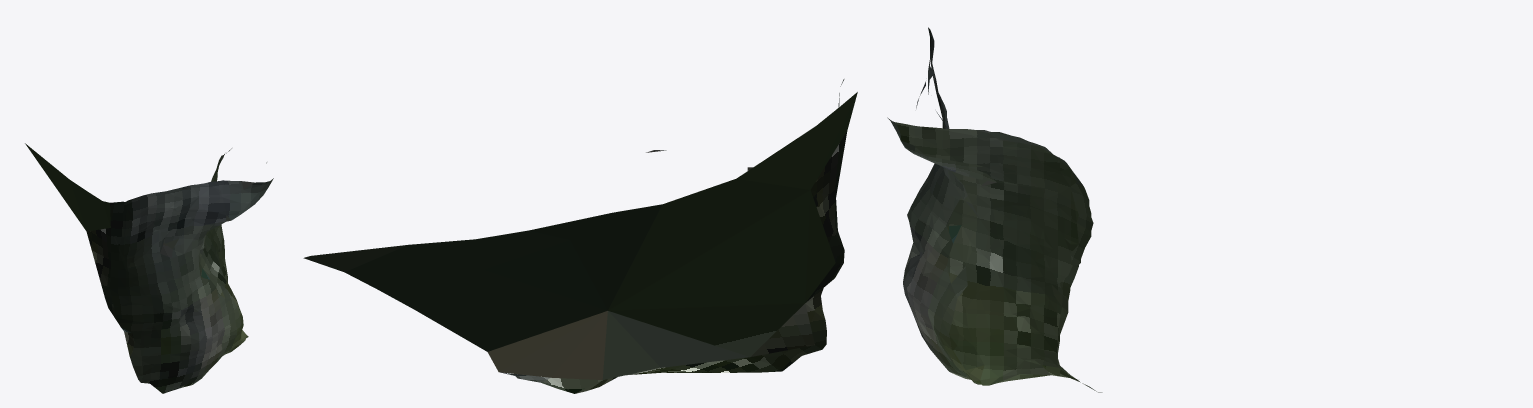
The picture shows the model from 3 angles, left to right: view 1: azimuth 30°, elevation 25°; view 2: azimuth 150°, elevation 25°; view 3: azimuth 270°, elevation 25°; orthographic projection. The views are drawn at different scales.
Bounding box in the file's own units: 0.2517 × 0.2959 × 0.5804.
1 material, 1 textured.
